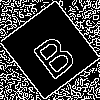B: (24, 25, 79, 82)
